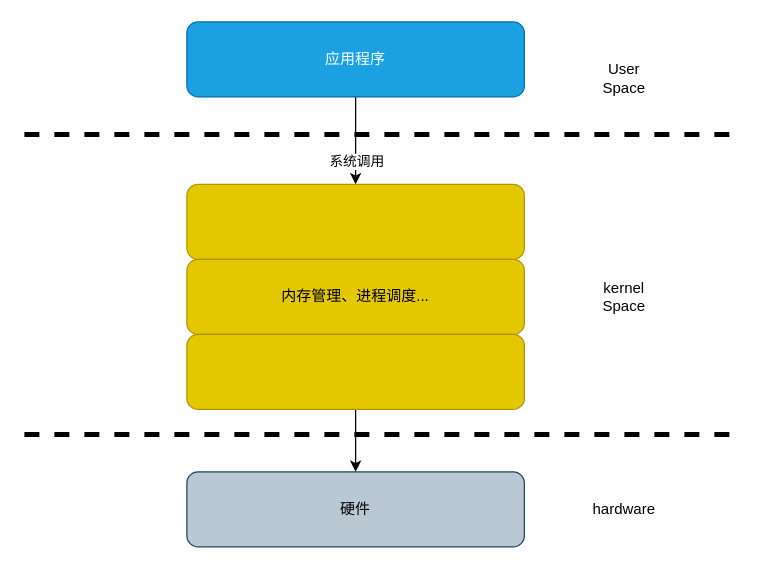
This 761x569 diagram has some shape labels left out. The shapes that lost their labels are listed below. From the top down, each one's box as (x1, y1, x2, y2) in pixels, then its label:
(186, 183, 524, 259): 虚拟文件系统
(186, 333, 524, 409): 设备驱动
